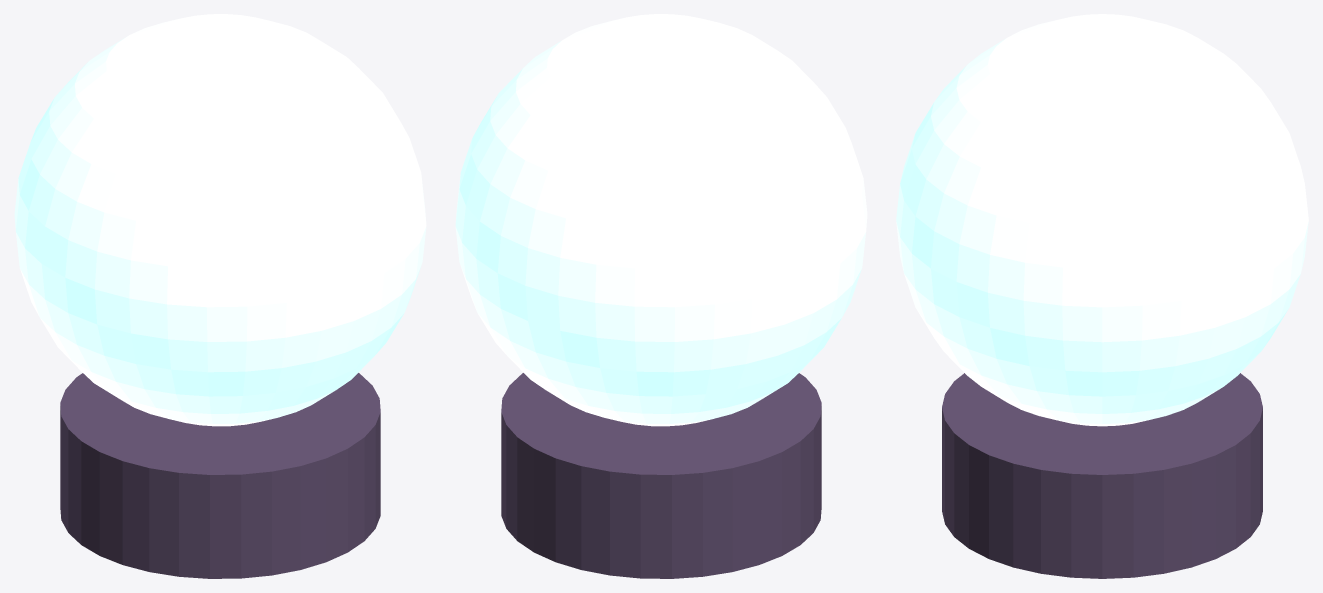
Rendered from crystal_orb.glb.
3 views of the same model, side by side, from view 1: azimuth 30°, elevation 25°; view 2: azimuth 150°, elevation 25°; view 3: azimuth 270°, elevation 25° (orthographic).
Visible parts, largest first — view 1: Sphere, Cylinder; view 2: Sphere, Cylinder; view 3: Sphere, Cylinder.
Part boxes in pixels (left/top/right/bottom): Sphere: left=14, top=14, right=426, bottom=426; Cylinder: left=60, top=373, right=380, bottom=578; Sphere: left=455, top=14, right=867, bottom=426; Cylinder: left=501, top=373, right=821, bottom=578; Sphere: left=896, top=14, right=1308, bottom=426; Cylinder: left=942, top=373, right=1262, bottom=578.
Size of the model in its own units: 0.36 by 0.46 by 0.36.
